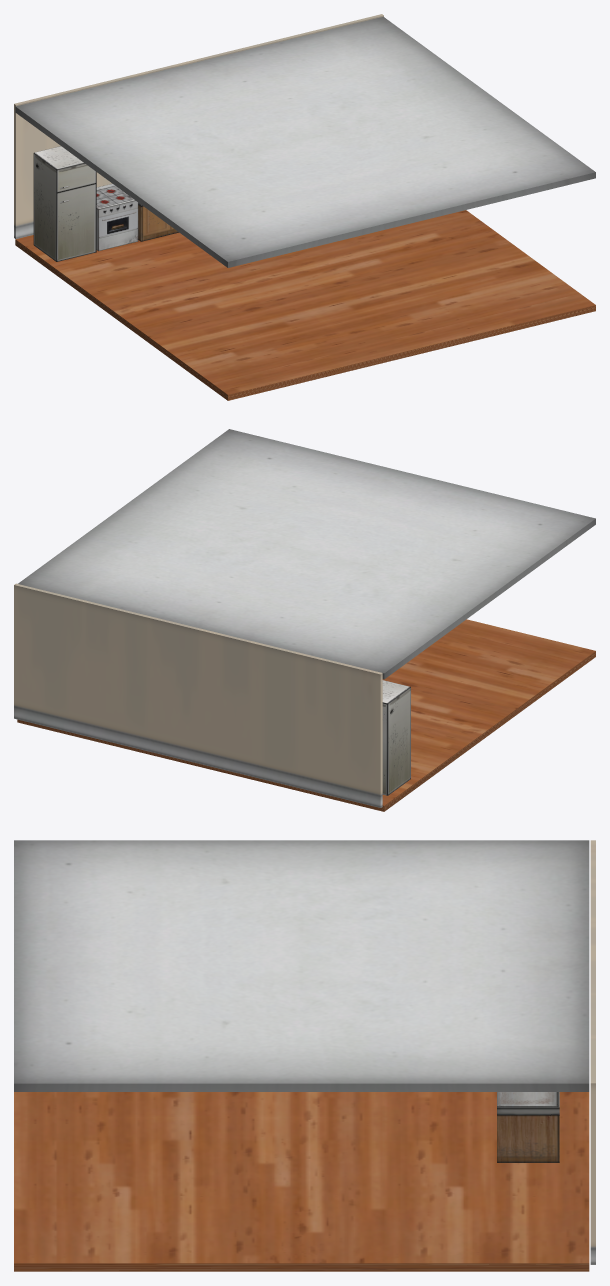
The model's file is KitchenAssets.2.fbx.
3 renders of one model, top to bottom at view 1: azimuth 30°, elevation 25°; view 2: azimuth 150°, elevation 25°; view 3: azimuth 270°, elevation 25°, orthographic. The views are drawn at different scales.
Visible parts, largest first — view 1: Celing, Floor, Fridge1, Wall3, Stove, Countertop; view 2: Celing, Wall3, Floor, Fridge1; view 3: Celing, Floor, Countertop, Wall3.
Part boxes in pixels (x1,y1,x2,y2): Celing: [15, 16, 595, 267]; Floor: [15, 210, 595, 400]; Fridge1: [33, 146, 96, 261]; Wall3: [14, 14, 383, 238]; Stove: [96, 183, 138, 251]; Countertop: [138, 203, 178, 241]; Celing: [18, 429, 595, 679]; Wall3: [14, 583, 382, 807]; Floor: [17, 619, 595, 811]; Fridge1: [382, 680, 410, 795]; Celing: [14, 840, 589, 1091]; Floor: [14, 1092, 589, 1271]; Countertop: [497, 1092, 559, 1162]; Wall3: [590, 840, 595, 1264].
Size of the model in its own units: 7.72 by 2.79 by 7.79.
